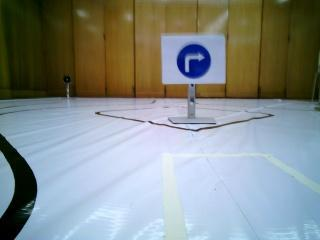right: (166, 34, 223, 79)
